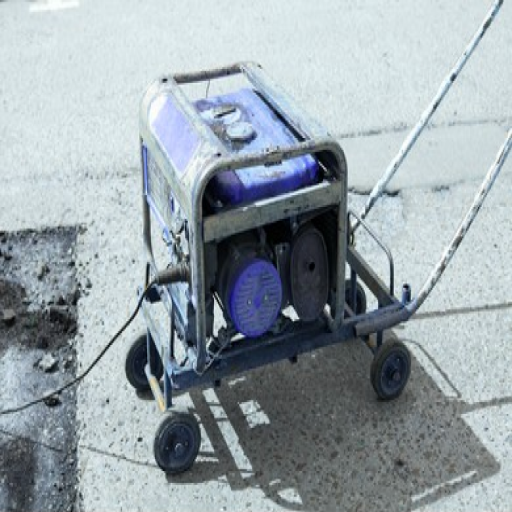portable_generator: (139, 61, 350, 374)
